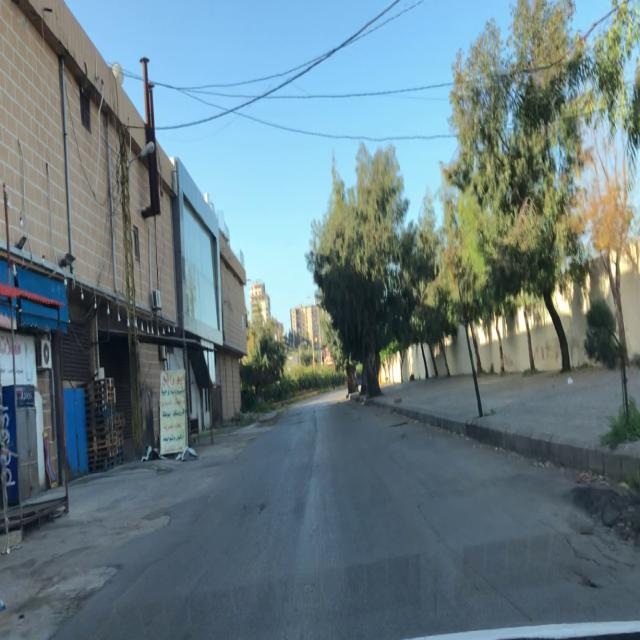Pothole: (389, 421, 409, 429), (292, 420, 306, 426), (290, 412, 303, 418)
